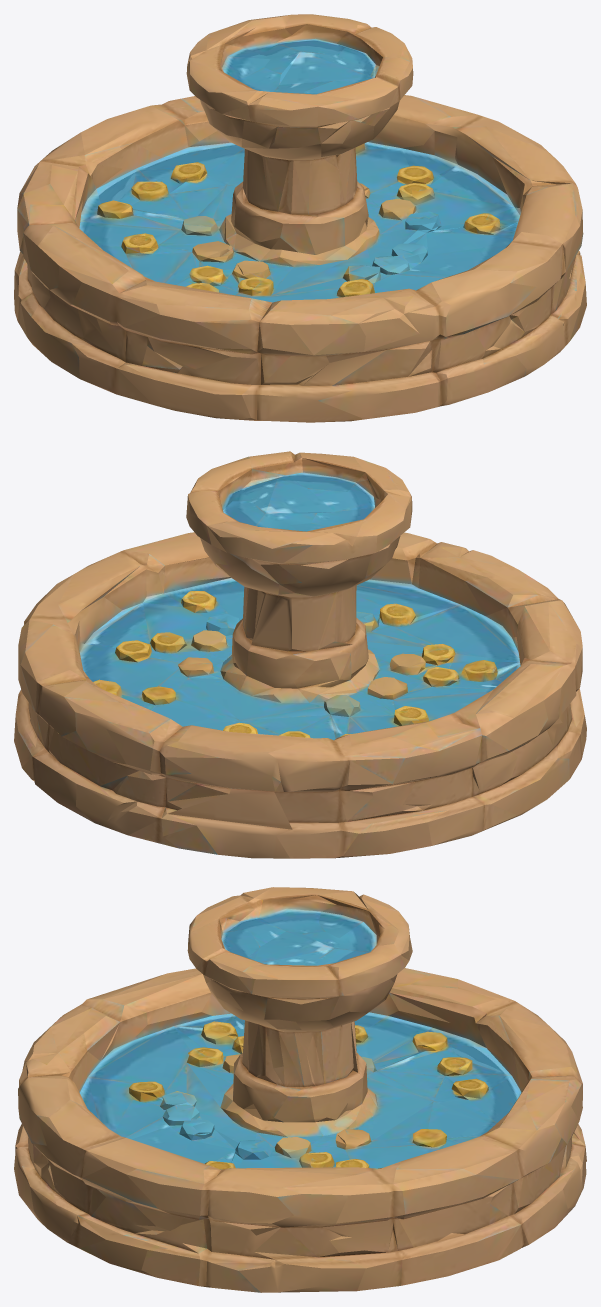
File: fountain.glb
3 renders of one model, top to bottom at view 1: azimuth 30°, elevation 25°; view 2: azimuth 150°, elevation 25°; view 3: azimuth 270°, elevation 25°, orthographic.
Bounding box in the file's own units: 1.9 × 0.9037 × 1.9.
1 material, 1 textured.
